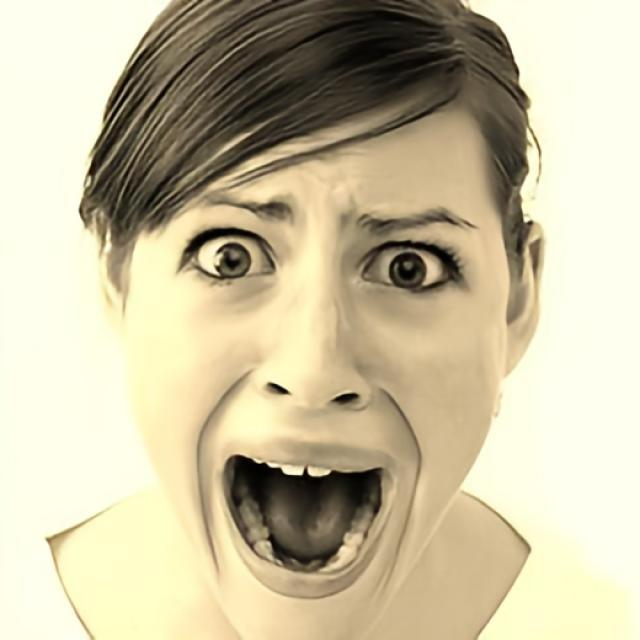Fear: (124, 83, 507, 640)
